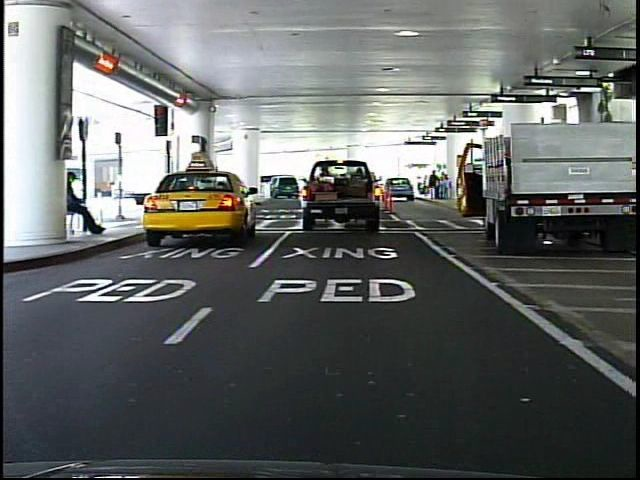person: (69, 169, 111, 241), (159, 167, 181, 218)
